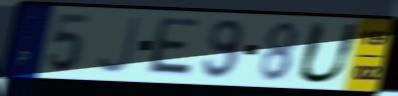5: (45, 11, 95, 74)
8: (257, 19, 302, 83)
9: (201, 18, 246, 81)
E: (143, 15, 203, 80)
J: (94, 15, 143, 76)
U: (293, 19, 365, 87)
